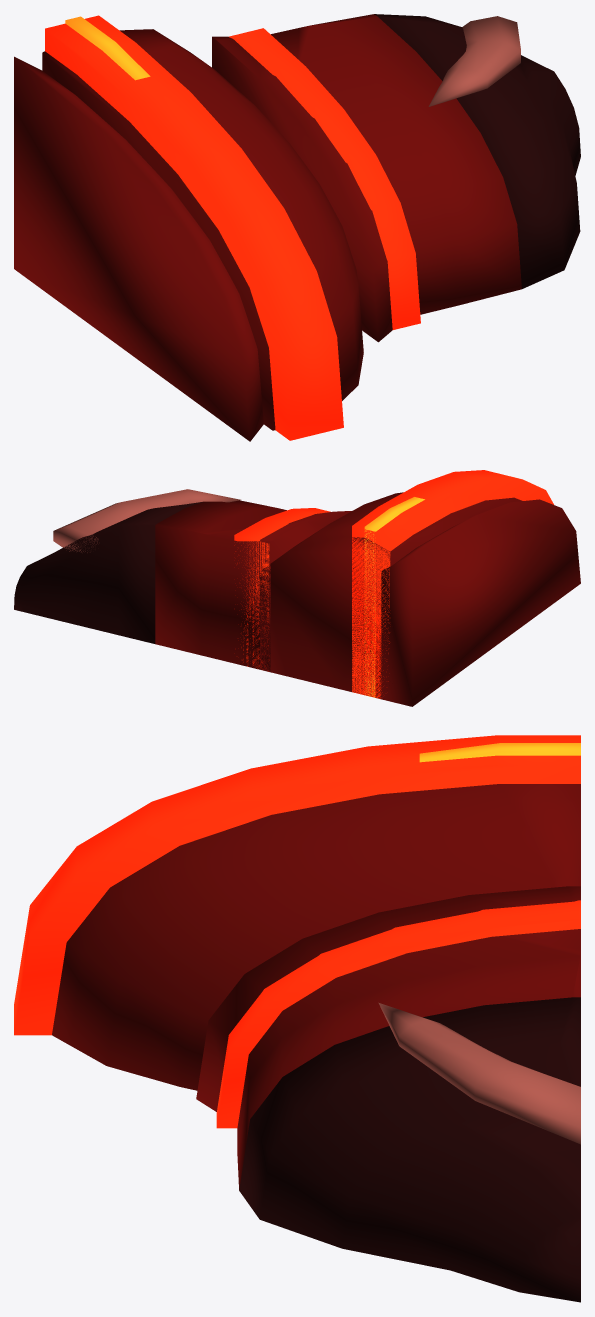
Rendered from newshe-121.glb.
The picture shows the model from 3 angles, top to bottom: view 1: azimuth 30°, elevation 25°; view 2: azimuth 150°, elevation 25°; view 3: azimuth 270°, elevation 25°; orthographic projection. The views are drawn at different scales.
Parts seen in each view (by area): view 1: newshe-121; view 2: newshe-121; view 3: newshe-121.
Part boxes in pixels (x1=…): newshe-121: x1=14, y1=14, x2=580, y2=441; newshe-121: x1=14, y1=470, x2=580, y2=706; newshe-121: x1=14, y1=735, x2=580, y2=1302.
Bounding box in the file's own units: 1.81 × 0.7313 × 1.38.
